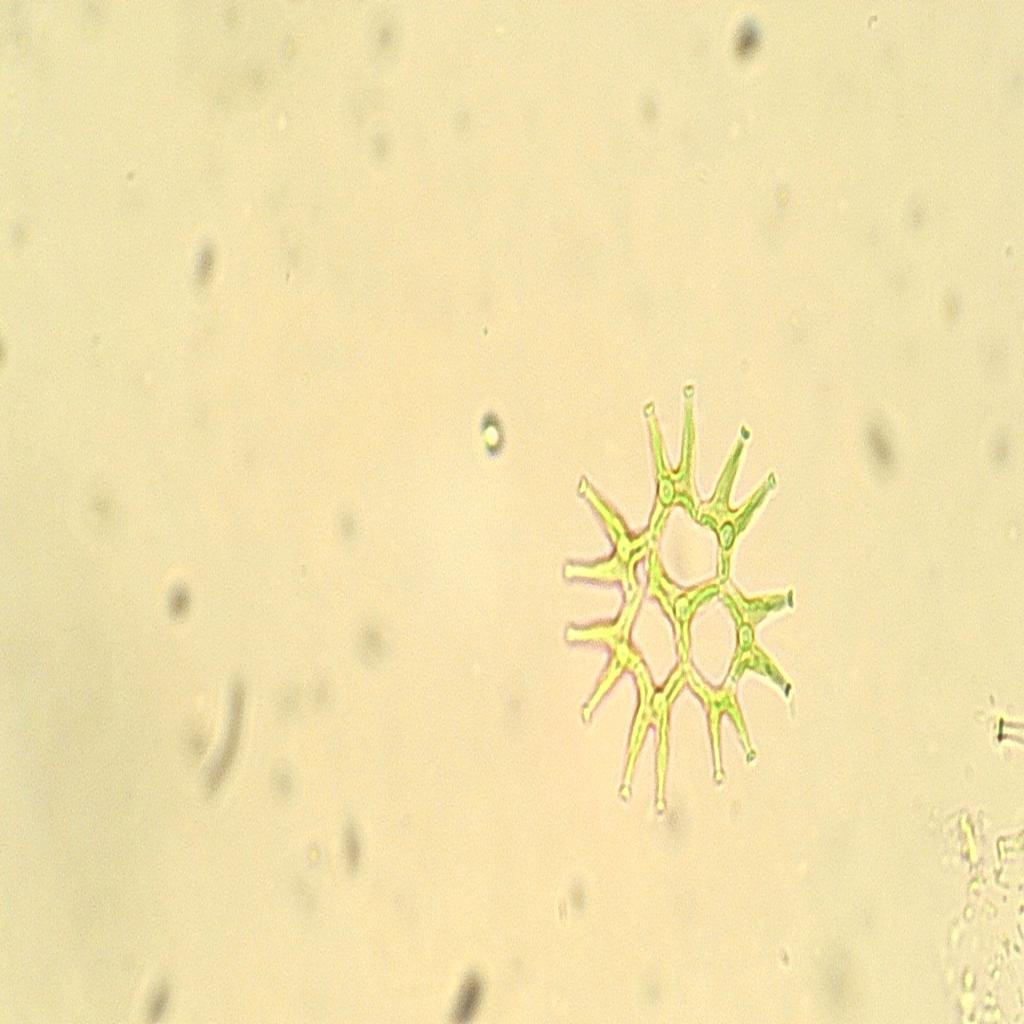Pediastrum_75T: (546, 374, 808, 834)
